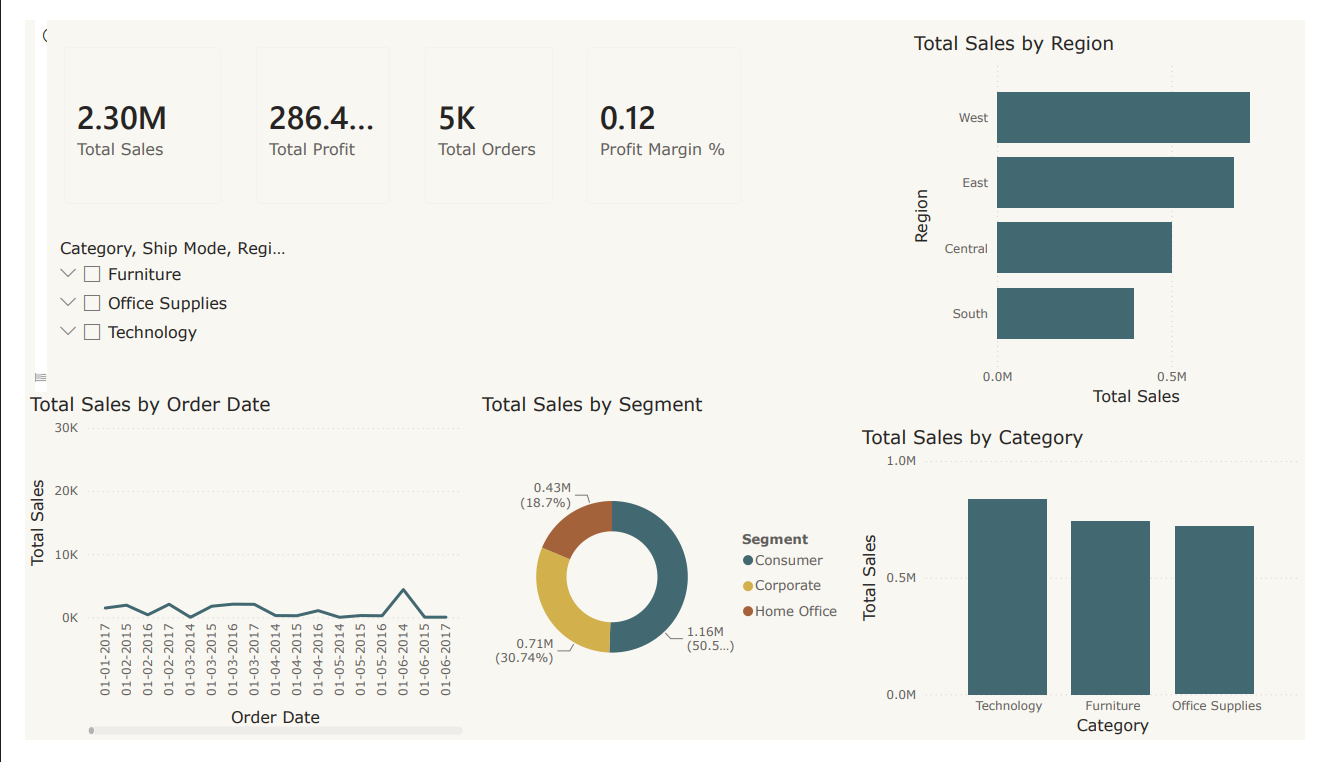

What the dashboard file says about the page in this screenshot:
{"tool":"powerbi","page":{"name":"Sales Dashboard","canvas":[1280,720],"ordinal":0},"visuals":[{"type":"cardVisual","box":[9.6,0,12.3,635.3],"z":0},{"type":"cardVisual","fields":{"Data":["Sales_cleaned xlsx.Total Sales"]},"box":[22,9.8,192,192],"z":1000},{"type":"cardVisual","fields":{"Data":["Sales_cleaned xlsx.Total Profit"]},"box":[214,9.8,168.8,192],"z":2000},{"type":"cardVisual","fields":{"Data":["Sales_cleaned xlsx.Profit Margin %"]},"box":[545.4,9.8,188.3,192],"z":3000},{"type":"cardVisual","fields":{"Data":["Sales_cleaned xlsx.Total Orders"]},"box":[382.7,9.8,162.6,192],"z":4000},{"type":"lineChart","fields":{"Y":["Sales_cleaned xlsx.Total Sales"],"Category":["Sales_cleaned xlsx.Order Date"]},"box":[0,371.7,442.7,348.5],"z":5000},{"type":"clusteredColumnChart","fields":{"Y":["Sales_cleaned xlsx.Total Sales"],"Category":["Sales_cleaned xlsx.Category"]},"box":[831.5,404.8,448.8,315.5],"z":6000},{"type":"clusteredBarChart","fields":{"Category":["Sales_cleaned xlsx.Region"],"Y":["Sales_cleaned xlsx.Total Sales"]},"box":[884.1,11,386.4,380.3],"z":7000},{"type":"donutChart","fields":{"Category":["Sales_cleaned xlsx.Segment"],"Y":["Sales_cleaned xlsx.Total Sales"]},"box":[452.4,371.7,374.2,348.5],"z":8000},{"type":"slicer","fields":{"Values":["Sales_cleaned xlsx.Category","Sales_cleaned xlsx.Ship Mode","Sales_cleaned xlsx.Region","Sales_cleaned xlsx.Order Date"]},"box":[22,212.8,261.7,146.7],"z":9000}]}

Visuals, with their boxes in screenshot pixels (x1, y1, x2, y2), scaled from the page's 1280x720 canvas onto the 1325x762 screenshot:
cardVisual: 10:0:23:672
cardVisual - Sales_cleaned xlsx.Total Sales: 23:10:222:214
cardVisual - Sales_cleaned xlsx.Total Profit: 222:10:396:214
cardVisual - Sales_cleaned xlsx.Profit Margin %: 565:10:759:214
cardVisual - Sales_cleaned xlsx.Total Orders: 396:10:564:214
lineChart - Sales_cleaned xlsx.Total Sales x Sales_cleaned xlsx.Order Date: 0:393:458:761
clusteredColumnChart - Sales_cleaned xlsx.Total Sales x Sales_cleaned xlsx.Category: 861:428:1324:761
clusteredBarChart - Sales_cleaned xlsx.Region x Sales_cleaned xlsx.Total Sales: 915:12:1315:414
donutChart - Sales_cleaned xlsx.Segment x Sales_cleaned xlsx.Total Sales: 468:393:856:761
slicer - Sales_cleaned xlsx.Category x Sales_cleaned xlsx.Ship Mode: 23:225:294:380
